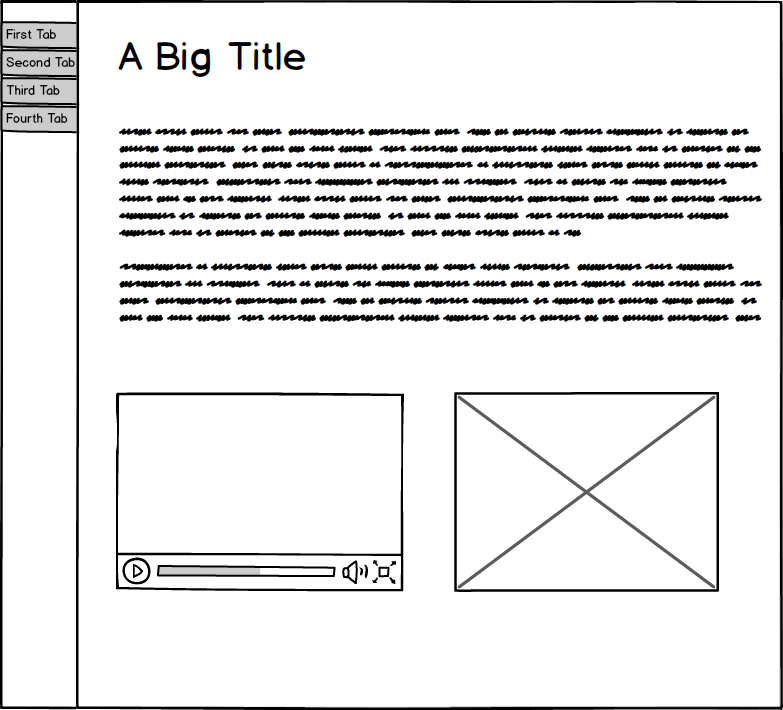h1: (110, 30, 316, 82)
image: (447, 386, 725, 598)
p: (112, 121, 769, 333)
sidebar: (2, 12, 80, 140)
video: (105, 385, 411, 599)
